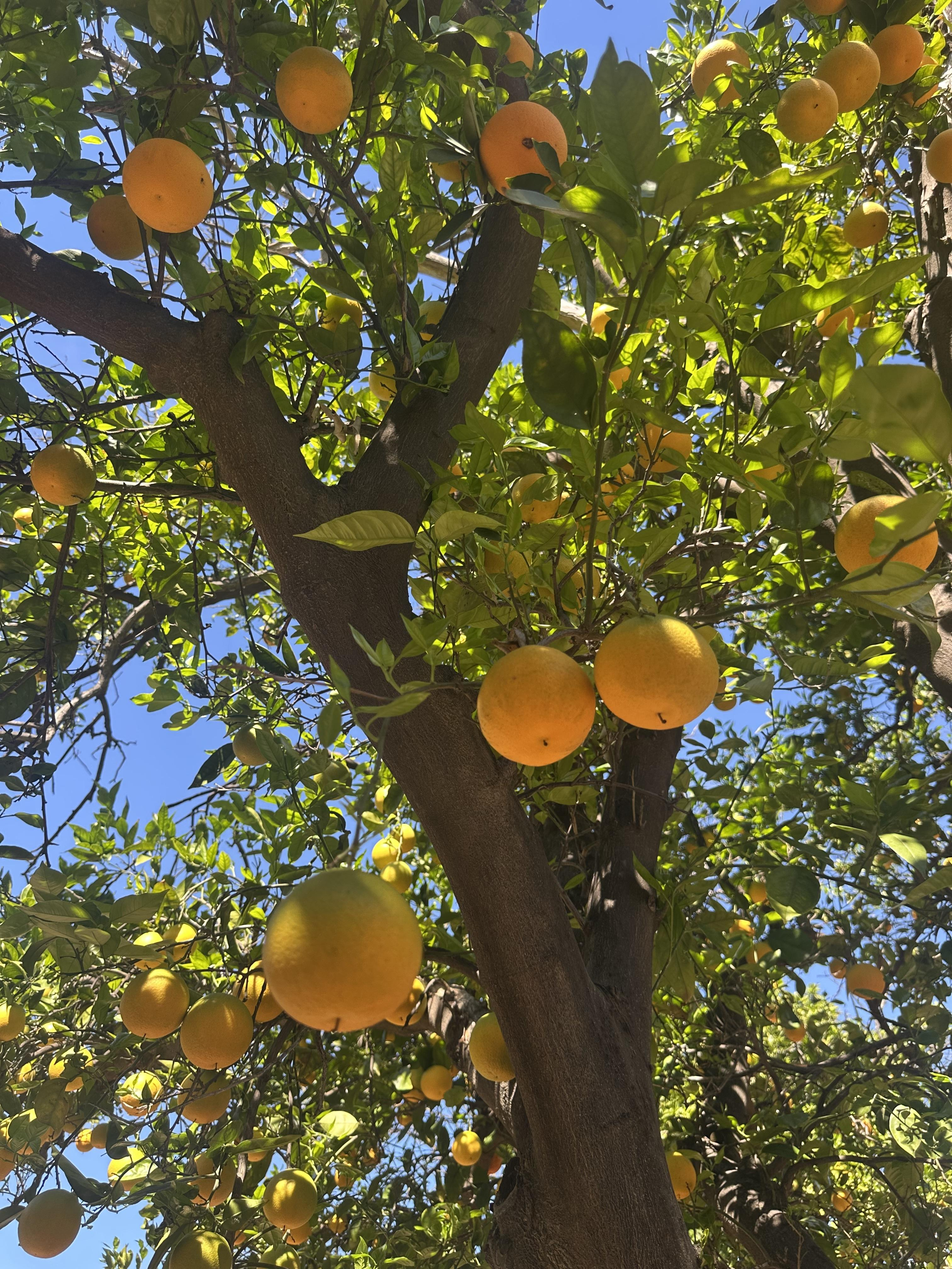orange: (262, 868, 422, 1031), (477, 645, 595, 766), (594, 616, 719, 730), (123, 138, 213, 233), (479, 101, 567, 198), (834, 494, 938, 573), (276, 46, 352, 134), (180, 994, 253, 1069), (120, 968, 189, 1038), (816, 40, 880, 113), (18, 1189, 82, 1258), (87, 195, 152, 260), (692, 38, 751, 109), (534, 554, 601, 615), (31, 444, 96, 506), (776, 77, 838, 142), (477, 538, 542, 598), (870, 24, 924, 85), (468, 1012, 514, 1082), (263, 1170, 317, 1229), (177, 1069, 231, 1124), (634, 422, 692, 473), (187, 1150, 237, 1208), (511, 473, 560, 524), (169, 1230, 232, 1269), (384, 978, 428, 1027), (843, 201, 888, 248), (5, 1108, 50, 1155), (49, 1045, 93, 1091), (120, 1070, 163, 1116), (901, 55, 938, 107), (233, 722, 274, 766), (318, 295, 364, 334), (666, 1151, 697, 1201), (313, 762, 352, 800), (736, 460, 785, 490), (926, 128, 952, 183), (130, 932, 167, 970), (162, 924, 199, 962), (846, 963, 884, 999), (369, 359, 398, 401), (420, 1064, 453, 1100), (817, 305, 854, 337), (451, 1130, 482, 1167), (418, 301, 447, 340), (505, 30, 534, 69), (380, 861, 413, 893), (0, 1001, 26, 1041), (5, 1061, 35, 1095), (431, 157, 470, 183), (590, 304, 618, 336), (372, 838, 400, 869), (684, 622, 723, 643), (374, 785, 402, 814), (390, 824, 416, 855), (402, 1069, 425, 1104), (719, 651, 748, 678), (859, 170, 885, 200), (551, 491, 577, 519), (494, 447, 523, 472), (803, 0, 847, 16), (575, 503, 593, 542), (686, 829, 715, 853), (0, 1143, 17, 1181), (611, 464, 634, 492), (62, 1108, 87, 1133), (746, 942, 773, 964), (596, 506, 611, 545), (286, 1224, 312, 1245), (610, 366, 632, 390), (830, 1189, 852, 1212), (714, 687, 736, 710), (748, 880, 768, 904), (447, 464, 463, 494), (90, 1123, 109, 1148), (729, 918, 754, 937), (0, 1116, 15, 1147), (783, 1021, 806, 1041), (13, 508, 33, 531), (74, 1128, 93, 1152), (600, 483, 619, 507), (486, 1151, 504, 1176), (363, 1144, 381, 1166), (397, 1104, 415, 1126), (263, 627, 283, 646), (829, 958, 847, 979), (334, 1170, 355, 1188), (858, 310, 877, 328), (328, 1214, 346, 1233), (874, 853, 893, 870), (45, 1125, 62, 1142), (765, 1002, 778, 1024), (248, 1149, 269, 1161), (301, 1071, 316, 1087), (841, 1249, 858, 1263), (136, 499, 149, 516), (124, 568, 136, 586), (233, 1230, 246, 1245), (835, 685, 851, 697), (912, 698, 924, 713), (449, 1063, 460, 1078), (252, 1126, 263, 1139), (35, 670, 48, 681), (51, 543, 62, 552), (942, 857, 952, 866), (886, 923, 892, 932)
